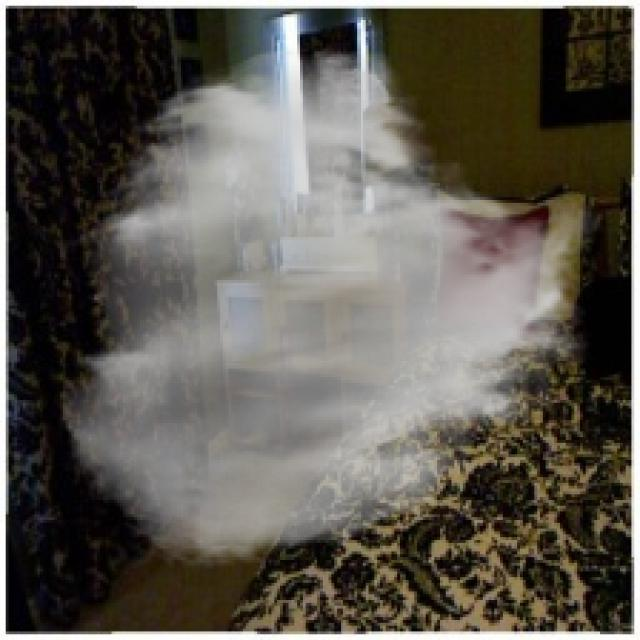Smoke: (57, 42, 603, 572)
